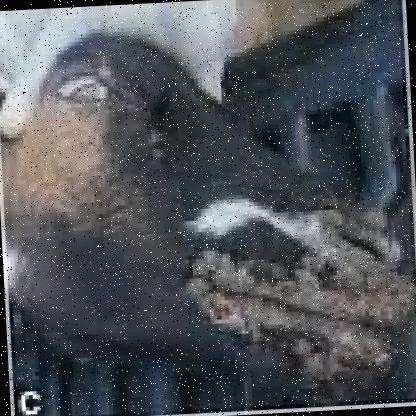ppr: (162, 190, 416, 393)
